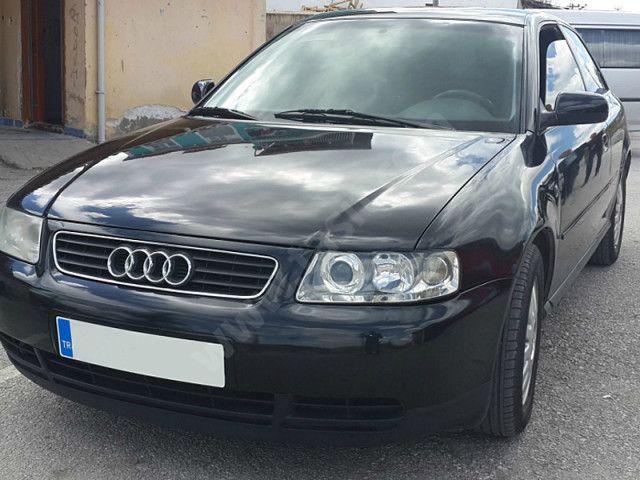audi: (98, 239, 197, 297)
